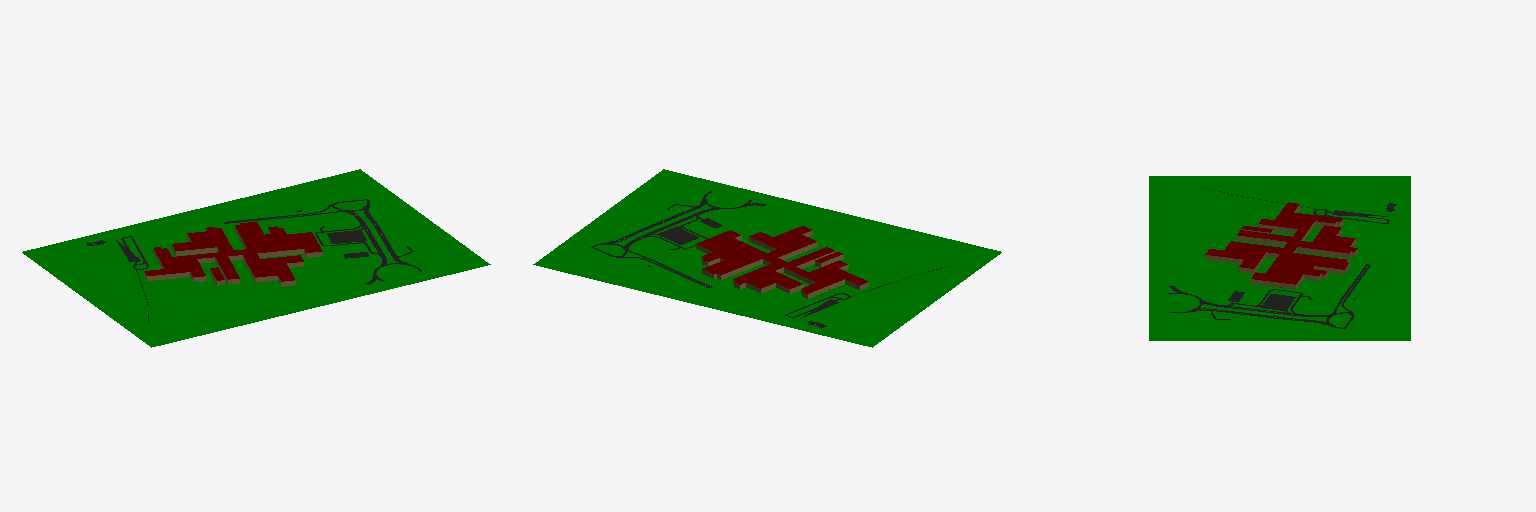
Rendered from prueba.obj.
3 views of the same model, side by side, from view 1: azimuth 30°, elevation 25°; view 2: azimuth 150°, elevation 25°; view 3: azimuth 270°, elevation 25° (orthographic).
Visible parts, largest first — view 1: SurfaceArea99, SurfaceArea101, Building97, SurfaceArea100, SurfaceArea102; view 2: SurfaceArea99, SurfaceArea101, Building97, SurfaceArea100, SurfaceArea102; view 3: SurfaceArea99, SurfaceArea101, Building97, SurfaceArea100, SurfaceArea102.
Part boxes in pixels (bbox=[...]): SurfaceArea99: bbox=[43, 223, 339, 347]; SurfaceArea101: bbox=[233, 185, 490, 301]; Building97: bbox=[144, 222, 322, 286]; SurfaceArea100: bbox=[22, 206, 228, 267]; SurfaceArea102: bbox=[210, 169, 380, 220]; SurfaceArea99: bbox=[707, 206, 1001, 331]; SurfaceArea101: bbox=[555, 169, 813, 284]; Building97: bbox=[696, 226, 868, 298]; SurfaceArea100: bbox=[684, 287, 892, 347]; SurfaceArea102: bbox=[533, 249, 703, 301]; SurfaceArea99: bbox=[1149, 176, 1366, 267]; SurfaceArea101: bbox=[1149, 268, 1366, 340]; Building97: bbox=[1205, 202, 1357, 289]; SurfaceArea100: bbox=[1367, 176, 1410, 267]; SurfaceArea102: bbox=[1367, 268, 1410, 340].
Bounding box in the file's own units: 540 × 7.5 × 360.